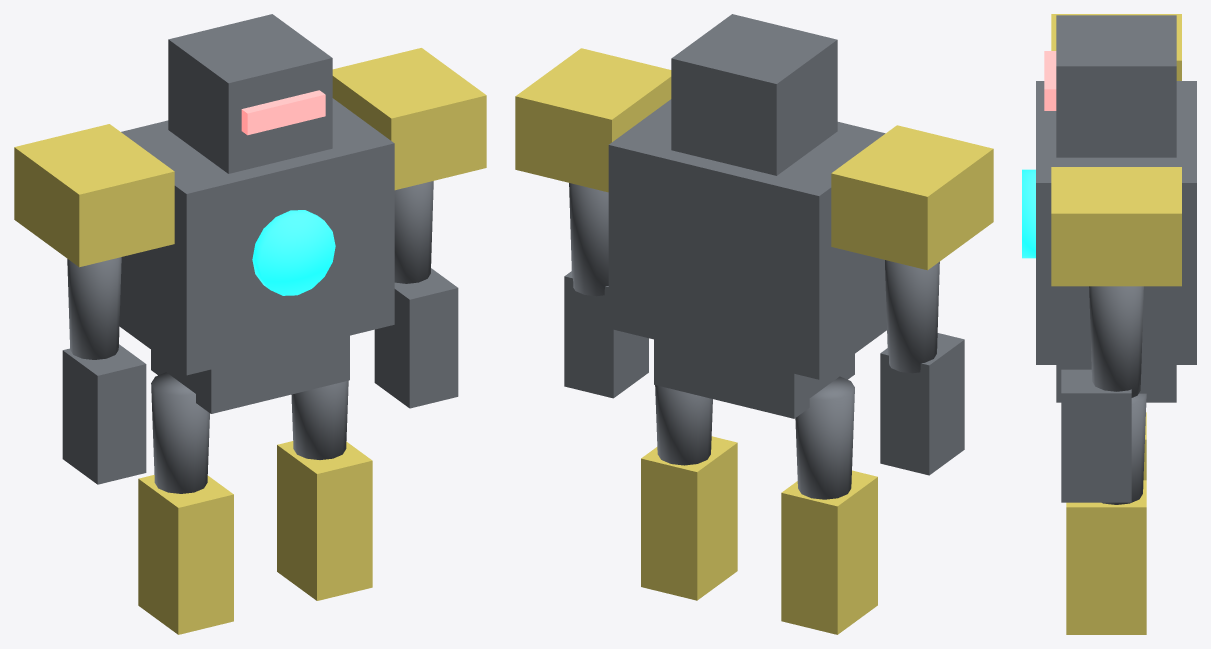
Rendered from fba69680-3225-4a32-9d4a-1ea87e5d847a.glb.
3 renders of one model, left to right at view 1: azimuth 30°, elevation 25°; view 2: azimuth 150°, elevation 25°; view 3: azimuth 270°, elevation 25°, orthographic.
Visible parts, largest first — view 1: Generated3DMesh; view 2: Generated3DMesh; view 3: Generated3DMesh.
Part boxes in pixels (x1=…): Generated3DMesh: x1=14, y1=14, x2=486, y2=634; Generated3DMesh: x1=515, y1=14, x2=993, y2=634; Generated3DMesh: x1=1022, y1=14, x2=1196, y2=634.
Bounding box in the file's own units: 2.35 × 3 × 0.87.
